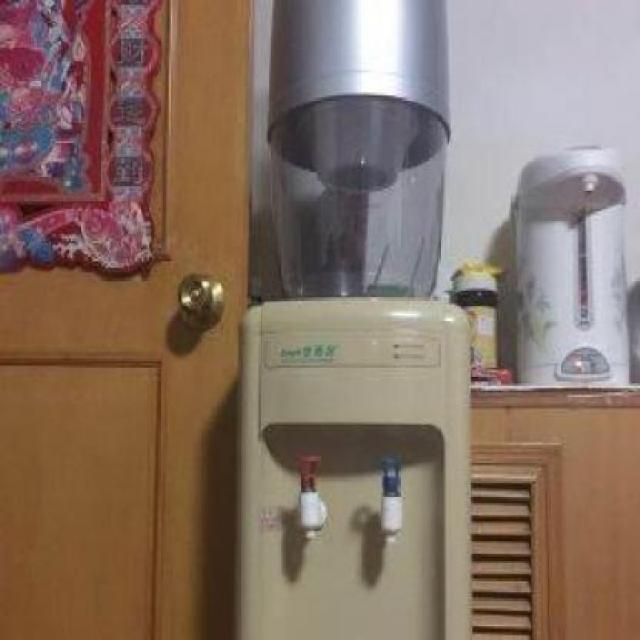cooler: (237, 0, 473, 640)
